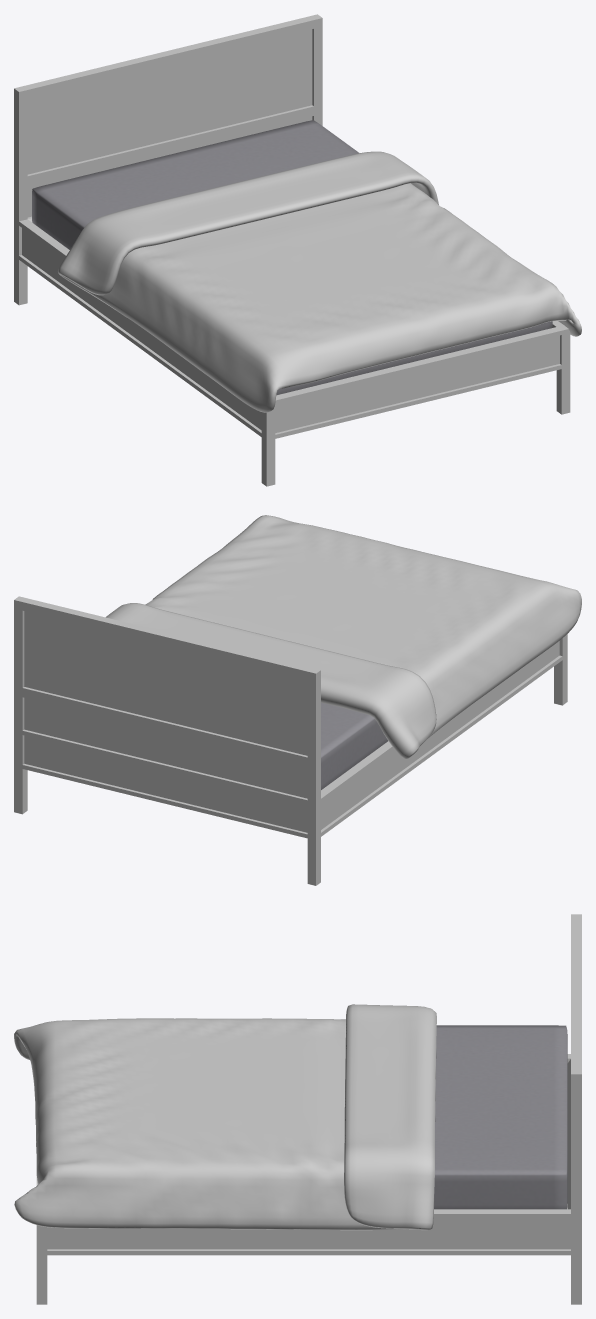
The model's file is Bed08.fbx.
3 renders of one model, top to bottom at view 1: azimuth 30°, elevation 25°; view 2: azimuth 150°, elevation 25°; view 3: azimuth 270°, elevation 25°, orthographic. The views are drawn at different scales.
Parts seen in each view (by area): view 1: Blanket08, BedFrame08, Mattress08; view 2: BedFrame08, Blanket08, Mattress08; view 3: Blanket08, Mattress08, BedFrame08.
Part boxes in pixels (x1,y1,x2,y2): Blanket08: [58, 151, 581, 412]; BedFrame08: [14, 14, 570, 486]; Mattress08: [32, 120, 552, 395]; BedFrame08: [14, 596, 567, 885]; Blanket08: [106, 515, 581, 758]; Mattress08: [321, 702, 387, 789]; Blanket08: [14, 1004, 436, 1230]; Mattress08: [434, 1025, 567, 1209]; BedFrame08: [36, 914, 581, 1304].
Bounding box in the file's own units: 181 × 104 × 234.
